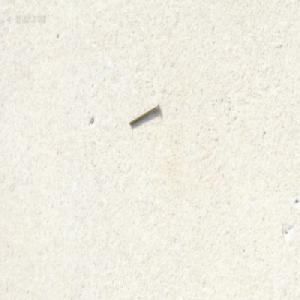Bolt: (128, 101, 159, 126)
